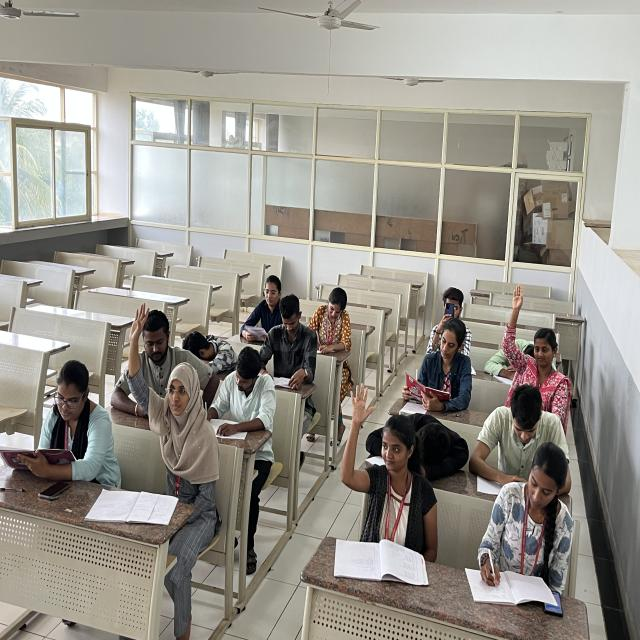Hand Rising: (322, 378, 440, 570), (118, 294, 227, 496), (492, 276, 575, 404)
Reading: (0, 347, 122, 524), (459, 379, 575, 503), (392, 315, 476, 413), (260, 295, 329, 404), (234, 270, 284, 350)
Sleeping: (402, 405, 475, 489), (171, 320, 237, 373)
Using Phone: (109, 307, 190, 428), (426, 284, 478, 355)
Writing: (467, 436, 571, 615), (206, 344, 282, 463), (310, 278, 360, 361)
